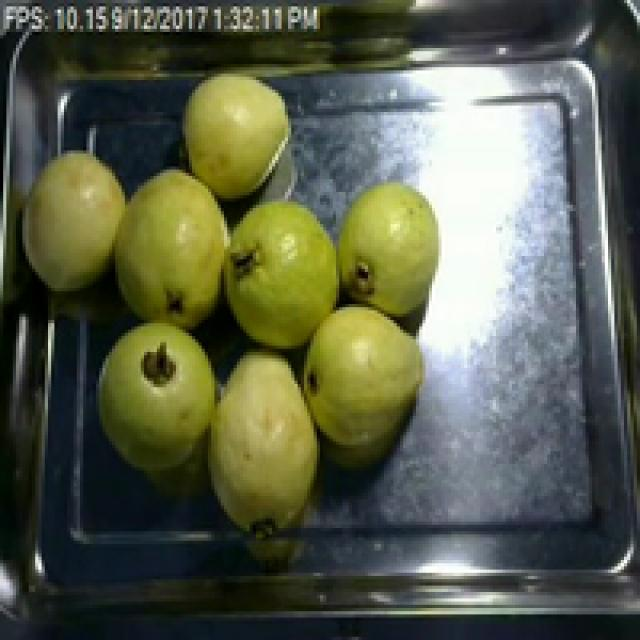Fruit: (189, 333, 333, 534), (288, 291, 435, 474), (224, 182, 358, 368), (83, 307, 227, 477), (106, 157, 227, 342), (7, 141, 138, 304), (326, 170, 452, 330), (176, 64, 304, 208)
